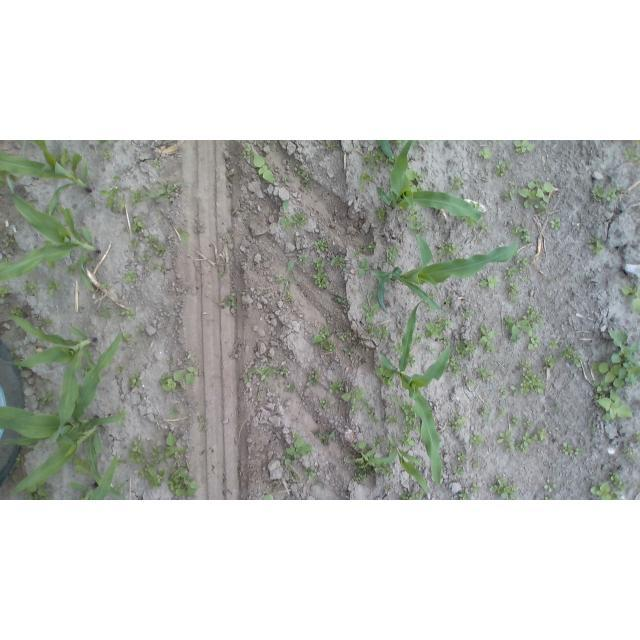Maize: (1, 329, 128, 448), (379, 295, 451, 485), (370, 226, 519, 314), (5, 309, 100, 440), (1, 177, 101, 294), (377, 140, 483, 224), (0, 425, 120, 496), (0, 141, 94, 215), (366, 433, 429, 493), (70, 451, 119, 500), (378, 140, 394, 158)
Weeds: (592, 327, 640, 425), (281, 425, 313, 467), (519, 179, 553, 210), (159, 365, 198, 392), (170, 469, 201, 500), (273, 259, 299, 293), (146, 180, 183, 203), (520, 361, 544, 395), (252, 152, 276, 185), (140, 458, 166, 488), (242, 365, 290, 381), (165, 430, 190, 460), (489, 474, 520, 498), (505, 313, 534, 337), (100, 187, 125, 214), (354, 464, 383, 483), (620, 285, 640, 312), (589, 481, 617, 500), (146, 235, 169, 258), (314, 325, 333, 352), (406, 209, 426, 234), (354, 441, 374, 465), (129, 434, 145, 463), (561, 343, 581, 366), (27, 482, 52, 500), (456, 338, 476, 360), (425, 316, 445, 338), (315, 427, 339, 445), (402, 401, 419, 426), (477, 325, 497, 346), (280, 201, 295, 229), (407, 169, 425, 191), (497, 429, 515, 451), (73, 455, 92, 475), (129, 187, 148, 206), (377, 368, 395, 388), (362, 303, 380, 323), (528, 306, 545, 327), (494, 160, 515, 177), (611, 470, 628, 491), (18, 281, 39, 297), (476, 364, 497, 380), (518, 432, 534, 453), (313, 272, 331, 290), (294, 209, 312, 227), (359, 256, 373, 278), (451, 413, 468, 431), (448, 358, 463, 378), (342, 392, 366, 404), (589, 236, 604, 255), (515, 141, 536, 154), (38, 390, 55, 406), (439, 242, 461, 254), (479, 276, 499, 289), (331, 255, 347, 271), (131, 216, 146, 233), (508, 282, 520, 303), (518, 226, 533, 242), (534, 201, 550, 216), (449, 175, 465, 190), (306, 369, 321, 385), (220, 293, 237, 307), (390, 393, 404, 410), (329, 380, 345, 394), (387, 245, 400, 262), (315, 240, 332, 253), (380, 326, 393, 343), (593, 182, 604, 202), (399, 490, 421, 500), (119, 305, 137, 317), (98, 305, 112, 320), (501, 187, 516, 201), (532, 429, 548, 442), (101, 149, 114, 164), (299, 172, 312, 187), (544, 479, 560, 491), (38, 318, 55, 329), (50, 280, 63, 294), (504, 265, 517, 279), (313, 258, 327, 271), (99, 279, 111, 294), (530, 336, 542, 351), (550, 219, 562, 234), (333, 295, 348, 307), (340, 331, 355, 343), (470, 434, 488, 444), (179, 227, 190, 243), (374, 150, 387, 163), (387, 414, 400, 427), (125, 270, 139, 282), (607, 188, 618, 203), (354, 245, 365, 260), (401, 437, 417, 447), (131, 373, 144, 385), (545, 354, 558, 366), (1, 287, 12, 301), (360, 171, 374, 182), (132, 237, 141, 254), (562, 442, 574, 454), (69, 264, 80, 277), (480, 148, 493, 159), (457, 452, 469, 463), (499, 386, 509, 399), (152, 263, 166, 272), (369, 410, 379, 422), (307, 469, 317, 481), (368, 291, 380, 301), (368, 241, 377, 254), (369, 325, 378, 338), (15, 454, 26, 464), (362, 151, 372, 162), (624, 149, 634, 160), (152, 160, 162, 171), (245, 145, 255, 156), (344, 345, 353, 357), (394, 342, 403, 354), (11, 309, 26, 316), (458, 492, 471, 500), (47, 259, 57, 269), (467, 377, 477, 387), (549, 339, 559, 349), (299, 253, 309, 263), (625, 445, 635, 455), (152, 447, 161, 458), (412, 334, 423, 343), (511, 385, 520, 396), (377, 209, 386, 220), (351, 406, 360, 417), (387, 466, 396, 477), (517, 257, 531, 264), (410, 354, 418, 366), (471, 483, 484, 490), (171, 407, 180, 417), (464, 310, 474, 319), (445, 296, 455, 305), (479, 409, 488, 419), (455, 466, 464, 476), (289, 383, 298, 393), (287, 293, 296, 303), (467, 217, 478, 225), (484, 345, 496, 352), (633, 151, 640, 163), (290, 472, 299, 481), (329, 142, 338, 151), (373, 436, 383, 444), (383, 444, 393, 452), (344, 455, 351, 466), (524, 421, 535, 428), (124, 333, 132, 342), (520, 266, 528, 275), (403, 427, 412, 435), (144, 252, 151, 262), (438, 337, 448, 344), (392, 141, 402, 148), (499, 409, 506, 419), (471, 460, 481, 467), (264, 494, 275, 500), (322, 397, 327, 410), (512, 416, 519, 425), (81, 367, 88, 375), (117, 365, 124, 373), (97, 140, 108, 145), (575, 448, 582, 455), (137, 328, 144, 334), (446, 319, 452, 326), (510, 179, 516, 186), (107, 141, 115, 146), (370, 164, 376, 170), (114, 176, 123, 180), (635, 431, 639, 440), (482, 223, 487, 230), (3, 258, 11, 262), (493, 141, 503, 144), (167, 358, 173, 363), (427, 141, 436, 144), (635, 140, 640, 144)
